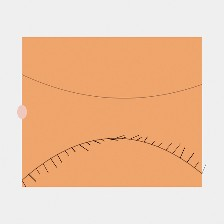corneal_ulcer: (92, 97, 141, 136)
